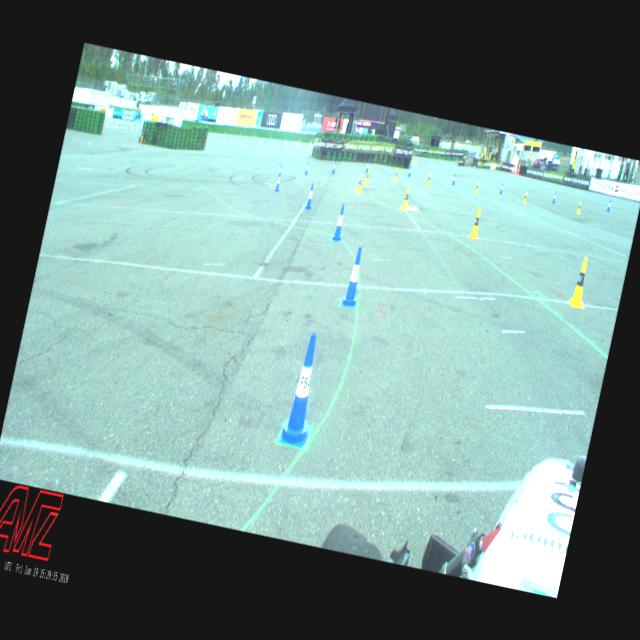blue_cone: (278, 330, 328, 447), (342, 246, 366, 307), (331, 202, 348, 242), (304, 182, 316, 208), (274, 172, 282, 192), (276, 164, 283, 180), (304, 161, 310, 176), (331, 160, 336, 173), (606, 200, 611, 212), (365, 160, 370, 172), (407, 166, 412, 177), (499, 182, 503, 194), (452, 173, 456, 184), (552, 192, 556, 202)
yellow_cone: (568, 255, 592, 308), (469, 208, 483, 238), (401, 186, 411, 210), (356, 174, 364, 193), (364, 168, 371, 184), (392, 167, 398, 181), (426, 172, 432, 185), (576, 201, 582, 214), (522, 192, 528, 204), (474, 181, 479, 193)
